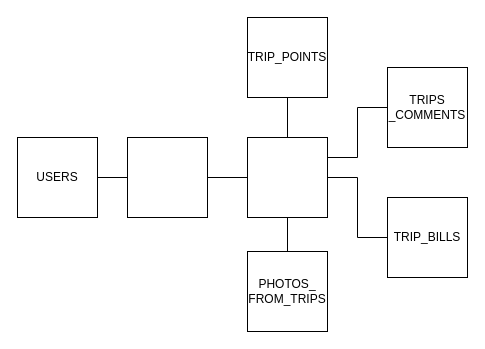
Some shapes in this 485 by 349 pixel diagram are drawn without their labels. Here are the shapes that lost their labels. From the top down, the centre of each, then its label:
At (x=167, y=177): "USER _TRIPS".
At (x=287, y=177): "TRIPS".
